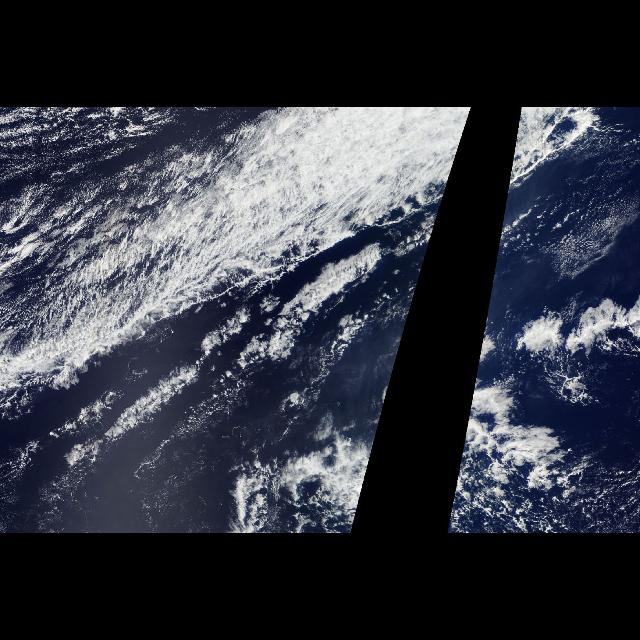Fish: (13, 202, 443, 502)
Sugar: (518, 162, 634, 288)
